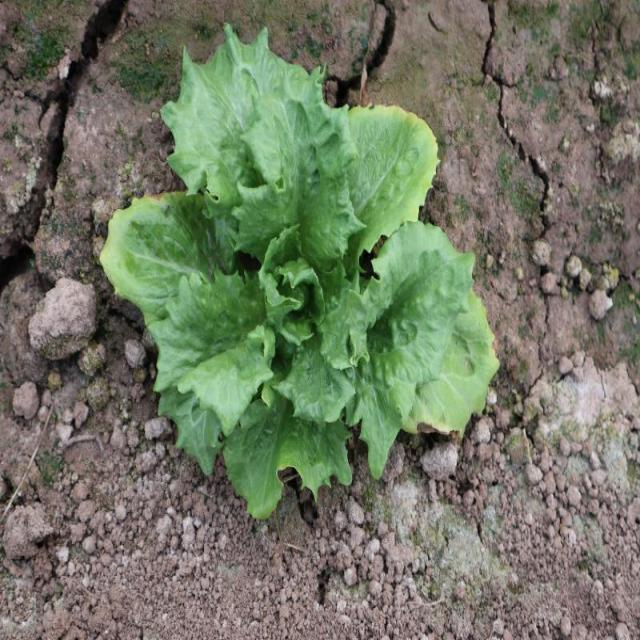crop: (100, 27, 502, 522)
